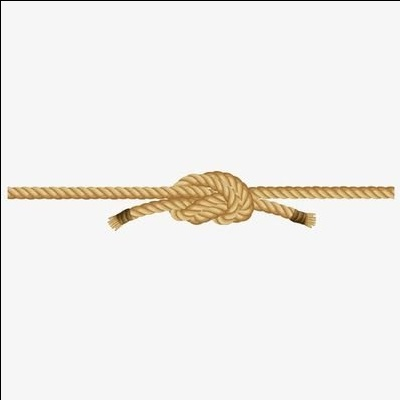9/可回收垃圾/绳子: (7, 171, 394, 231)
